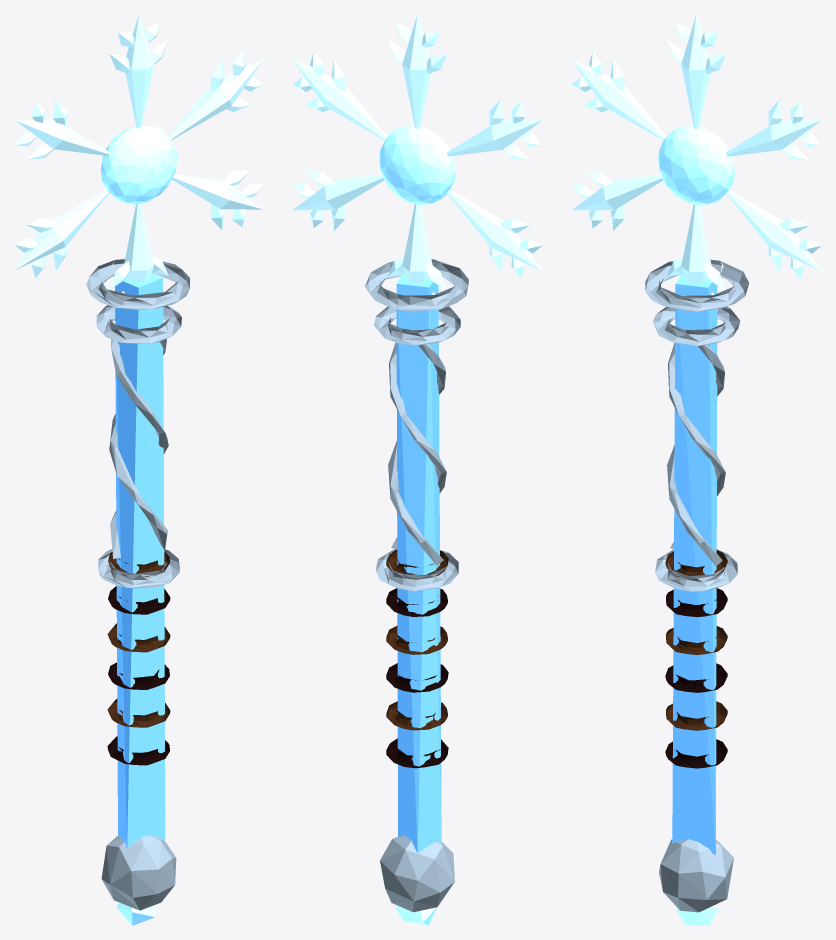
File: wand_5.glb
3 renders of one model, left to right at view 1: azimuth 30°, elevation 25°; view 2: azimuth 150°, elevation 25°; view 3: azimuth 330°, elevation 25°, orthographic.
Parts seen in each view (by area): view 1: part_01, part_15, part_11, part_10, part_41, part_26, part_16, part_09, part_36, part_21, part_08, part_31 (+8 smaller); view 2: part_01, part_15, part_11, part_10, part_41, part_26, part_16, part_09, part_13, part_21, part_36, part_08 (+7 smaller); view 3: part_01, part_15, part_11, part_10, part_21, part_36, part_16, part_09, part_14, part_26, part_41, part_08 (+9 smaller).
Boxes of the visible parts, x1,y1,x2,y2 form: part_01: (115, 273, 165, 849); part_15: (101, 125, 176, 204); part_11: (101, 835, 176, 910); part_10: (86, 259, 189, 309); part_41: (168, 59, 263, 139); part_26: (15, 189, 109, 269); part_16: (125, 15, 154, 128); part_09: (96, 305, 181, 343); part_36: (172, 174, 263, 209); part_21: (14, 119, 109, 155); part_08: (98, 549, 179, 588); part_31: (124, 203, 153, 281); part_01: (396, 274, 441, 853); part_15: (379, 125, 455, 205); part_11: (380, 835, 454, 912); part_10: (365, 259, 468, 311); part_41: (292, 59, 387, 140); part_26: (447, 190, 541, 270); part_16: (402, 14, 430, 128); part_09: (374, 306, 460, 345); part_13: (388, 344, 445, 565); part_21: (447, 120, 542, 156); part_36: (293, 174, 384, 210); part_08: (376, 549, 458, 591); part_01: (672, 274, 717, 854); part_15: (658, 125, 734, 205); part_11: (659, 839, 733, 912); part_10: (645, 259, 748, 311); part_21: (571, 59, 666, 140); part_36: (726, 190, 821, 271); part_16: (681, 14, 709, 128); part_09: (653, 306, 740, 345); part_14: (667, 344, 724, 565); part_26: (571, 174, 663, 210); part_41: (726, 120, 820, 156); part_08: (655, 549, 737, 591).
Size of the model in its own units: 0.2078 by 0.7231 by 0.0758.
